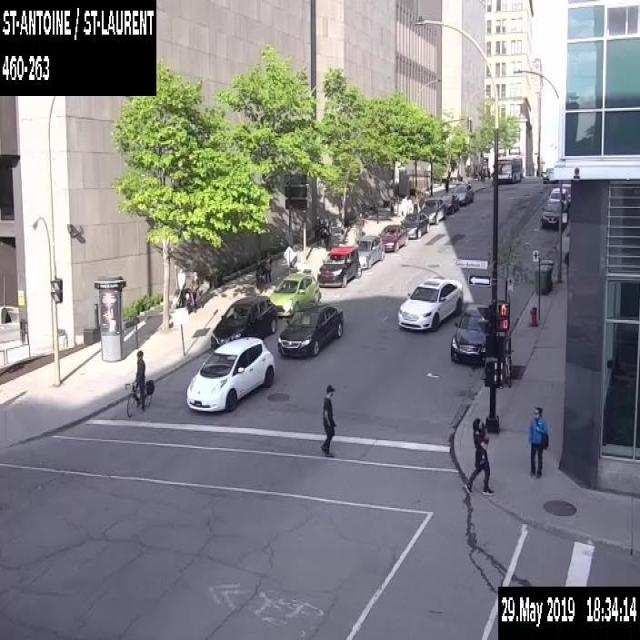bus: (495, 153, 522, 183)
cyclist: (124, 350, 154, 418)
pedestrian: (464, 416, 492, 493), (523, 403, 550, 477), (320, 381, 335, 456), (174, 266, 186, 308), (189, 270, 199, 313), (313, 215, 322, 245), (321, 218, 330, 248), (264, 251, 272, 284), (355, 209, 363, 239), (563, 249, 569, 275), (412, 190, 417, 212), (480, 166, 485, 182)
vehicle: (186, 336, 274, 410), (210, 294, 277, 350), (277, 301, 343, 355), (397, 277, 462, 330), (268, 270, 320, 318), (449, 303, 488, 363), (316, 246, 361, 286), (356, 234, 384, 268), (377, 223, 407, 250), (399, 212, 429, 237), (539, 200, 566, 225), (419, 198, 446, 223), (451, 182, 473, 204), (547, 186, 567, 208), (439, 192, 458, 213), (541, 166, 558, 183), (561, 182, 570, 202)
